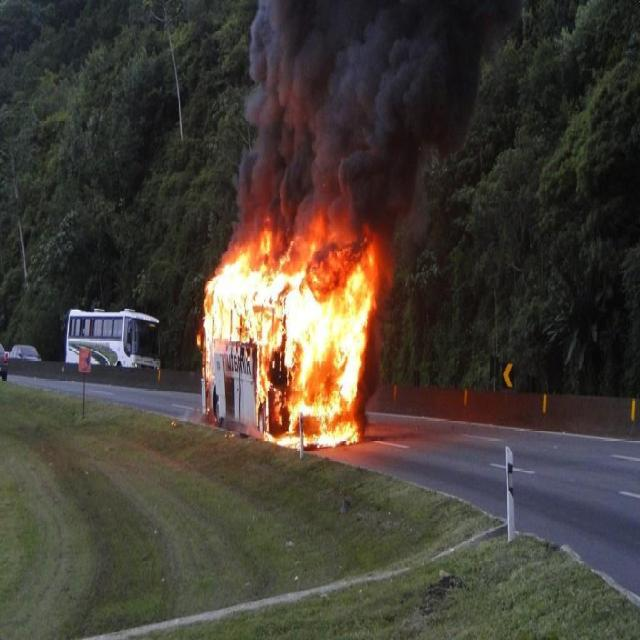fire: (209, 248, 374, 462)
smoke: (228, 3, 497, 204)
